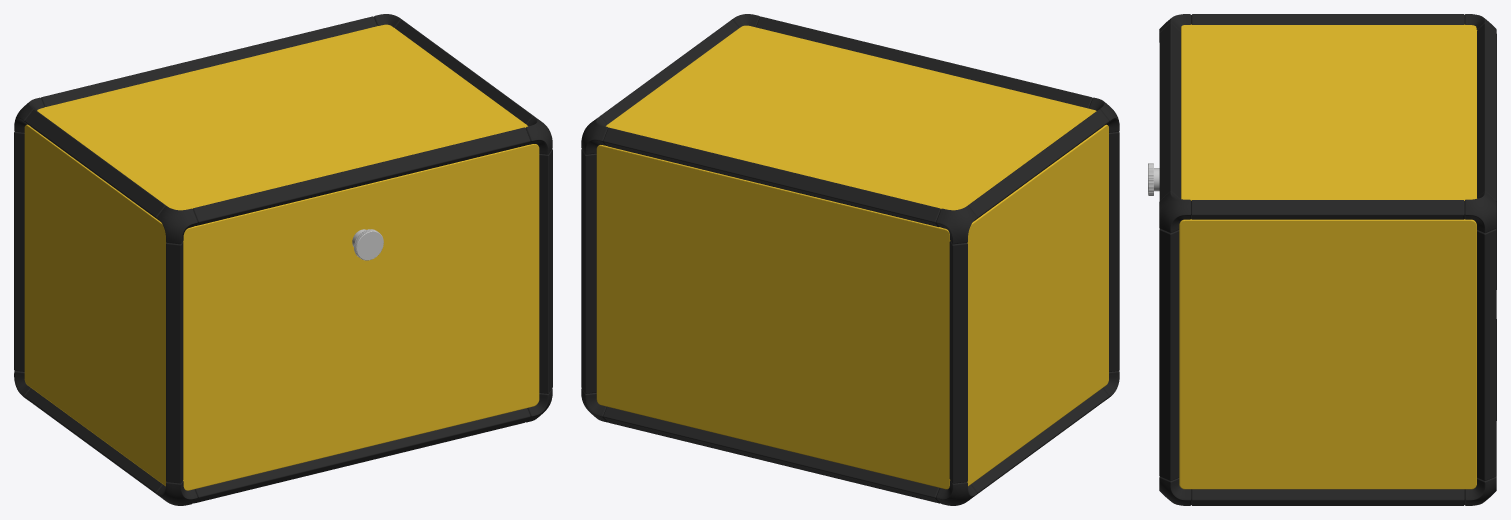
The picture shows the model from 3 angles, left to right: view 1: azimuth 30°, elevation 25°; view 2: azimuth 150°, elevation 25°; view 3: azimuth 270°, elevation 25°; orthographic projection. The views are drawn at different scales.
Visible parts, largest first — view 1: 479x329x329; view 2: 479x329x329; view 3: 479x329x329.
Boxes of the visible parts, x1=… form: 479x329x329: x1=14, y1=14, x2=552, y2=505; 479x329x329: x1=581, y1=14, x2=1119, y2=505; 479x329x329: x1=1148, y1=14, x2=1496, y2=505.
Size of the model in its own units: 0.5567 by 0.4066 by 0.4196.
